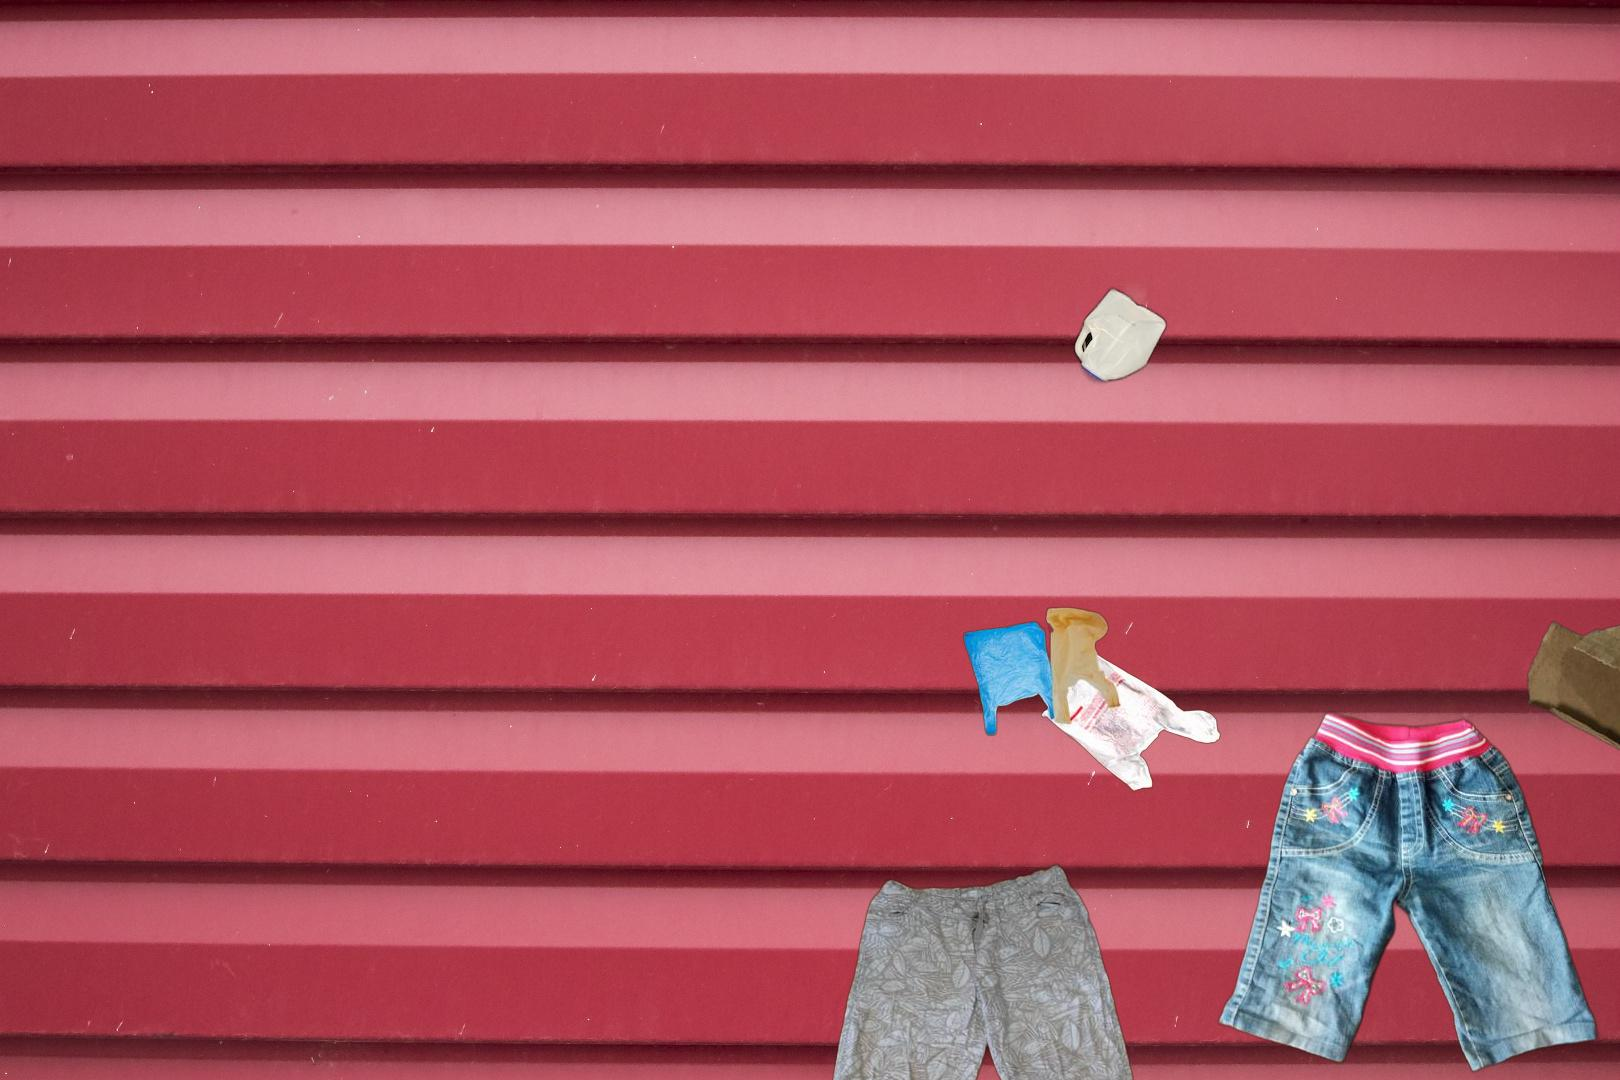clothes: (1214, 709, 1602, 1076), (777, 859, 1154, 1080)
paper: (1524, 595, 1620, 779)
plastic-bag: (959, 604, 1223, 794)
plastic-bottles: (1070, 281, 1170, 389)
